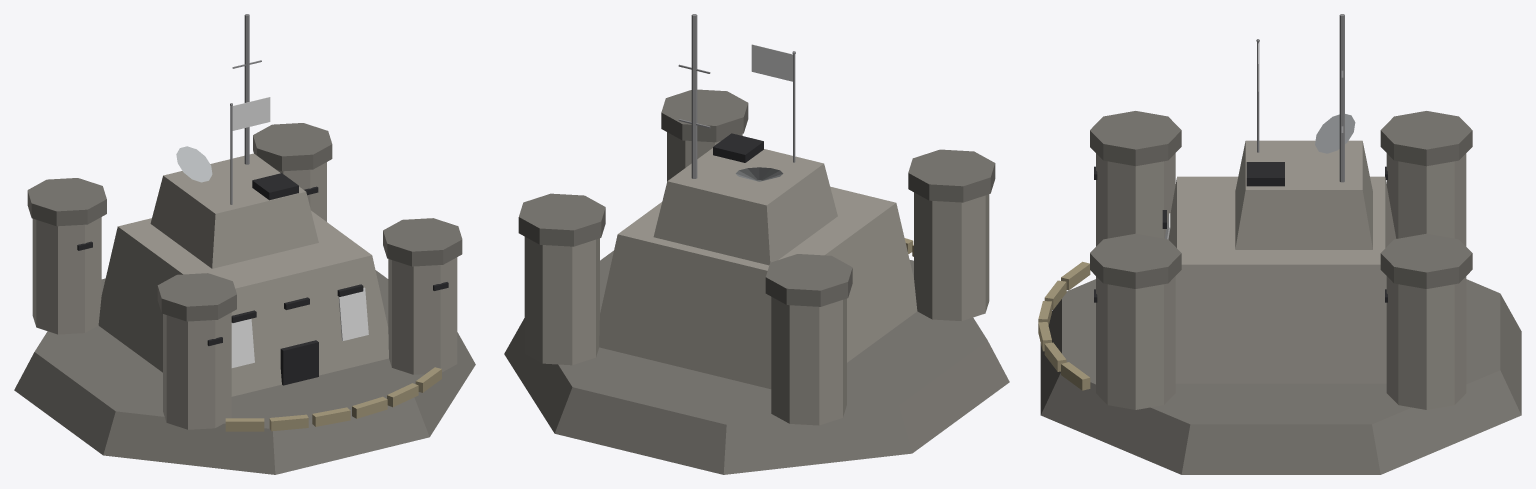
3 views of the same model, side by side, from view 1: azimuth 30°, elevation 25°; view 2: azimuth 150°, elevation 25°; view 3: azimuth 270°, elevation 25° (orthographic). The views are drawn at different scales.
Parts seen in each view (by area): view 1: Body, Flag; view 2: Body, Flag; view 3: Body.
Boxes of the visible parts, <box> form: Body: <box>14,14,475,474</box>; Flag: <box>232,97,270,130</box>; Body: <box>504,14,1009,474</box>; Flag: <box>751,44,792,81</box>; Body: <box>1038,14,1521,474</box>.
Size of the model in its own units: 31.41 by 27 by 31.57.
